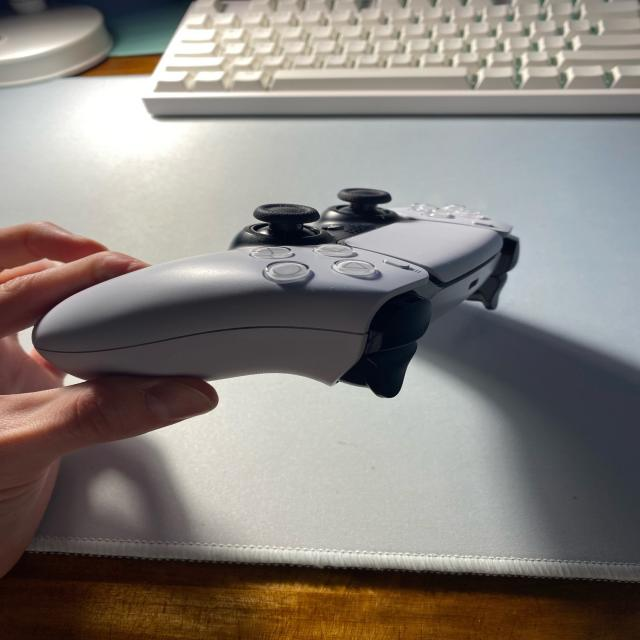dualsensePhoto: (33, 187, 518, 397), (33, 248, 427, 352), (345, 220, 503, 282), (228, 204, 335, 250), (230, 204, 335, 249), (429, 254, 498, 321), (315, 188, 400, 240), (340, 341, 417, 398), (365, 291, 432, 353), (248, 246, 320, 285), (253, 204, 320, 225), (337, 188, 392, 210), (410, 204, 488, 219), (330, 259, 382, 280), (312, 244, 357, 258), (413, 281, 440, 299), (382, 258, 410, 270), (473, 220, 493, 228), (468, 279, 478, 288)
